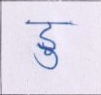u_matra: (33, 49, 62, 69)
